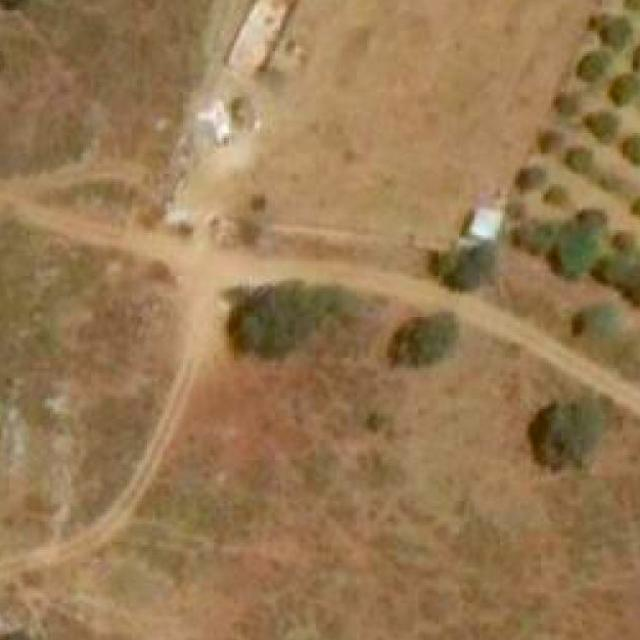Tree: (234, 284, 360, 351), (543, 387, 602, 461), (398, 310, 457, 364), (553, 213, 602, 277), (443, 242, 492, 292), (582, 296, 618, 338), (584, 113, 620, 143), (605, 258, 640, 286), (609, 77, 640, 107), (599, 21, 628, 51), (577, 54, 607, 80), (566, 146, 592, 172), (515, 169, 544, 192), (364, 407, 386, 437), (554, 95, 578, 121), (622, 135, 640, 163), (541, 186, 566, 205), (617, 230, 633, 256), (539, 133, 562, 151), (597, 177, 621, 192), (624, 0, 640, 8)
